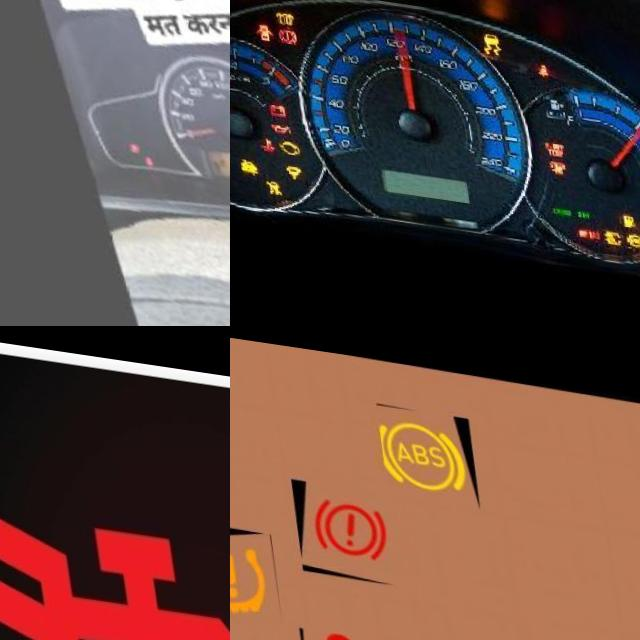High Engine Coolant Temperature: (249, 131, 263, 146)
Seat Belt: (529, 48, 541, 63)
